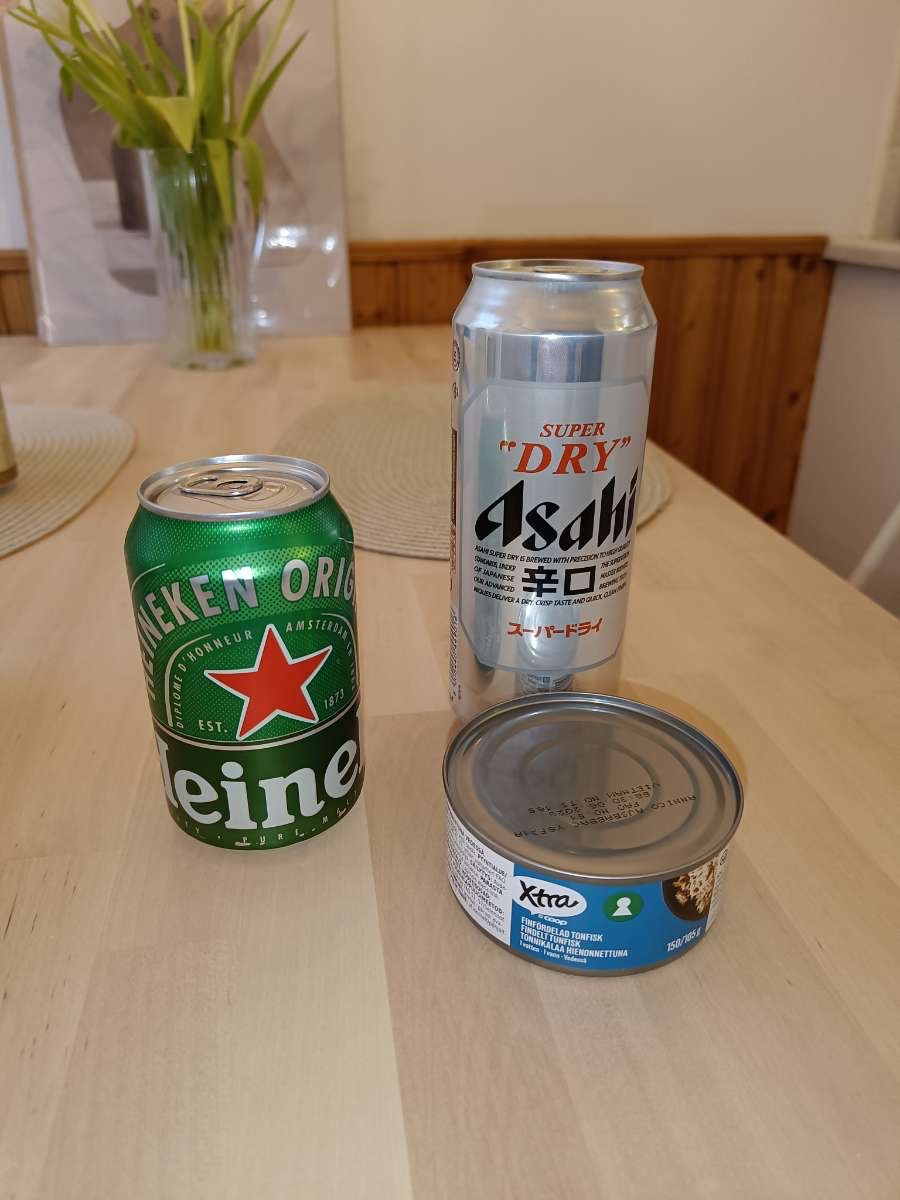Konservburk: (439, 696, 746, 982)
Pantburk: (441, 240, 664, 696), (122, 454, 368, 857)
